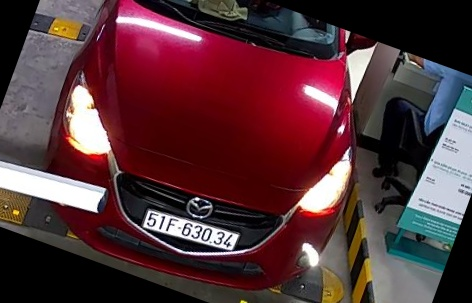plate: (137, 203, 241, 255)
